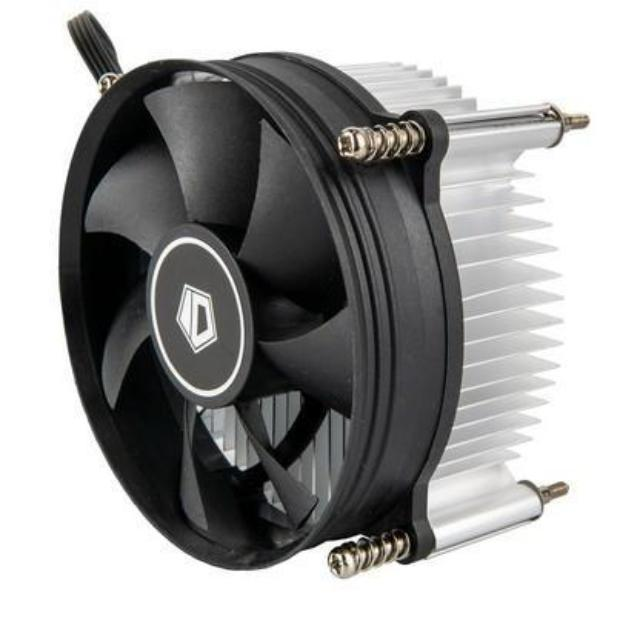CPU_Fan: (30, 12, 592, 604)
